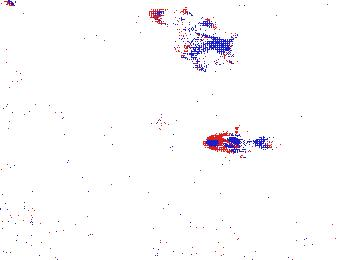X-ray fish: (149, 102, 177, 138)
red belly glassfish: (204, 128, 276, 153)
redtail glassfish: (174, 31, 246, 61), (147, 7, 217, 32)
